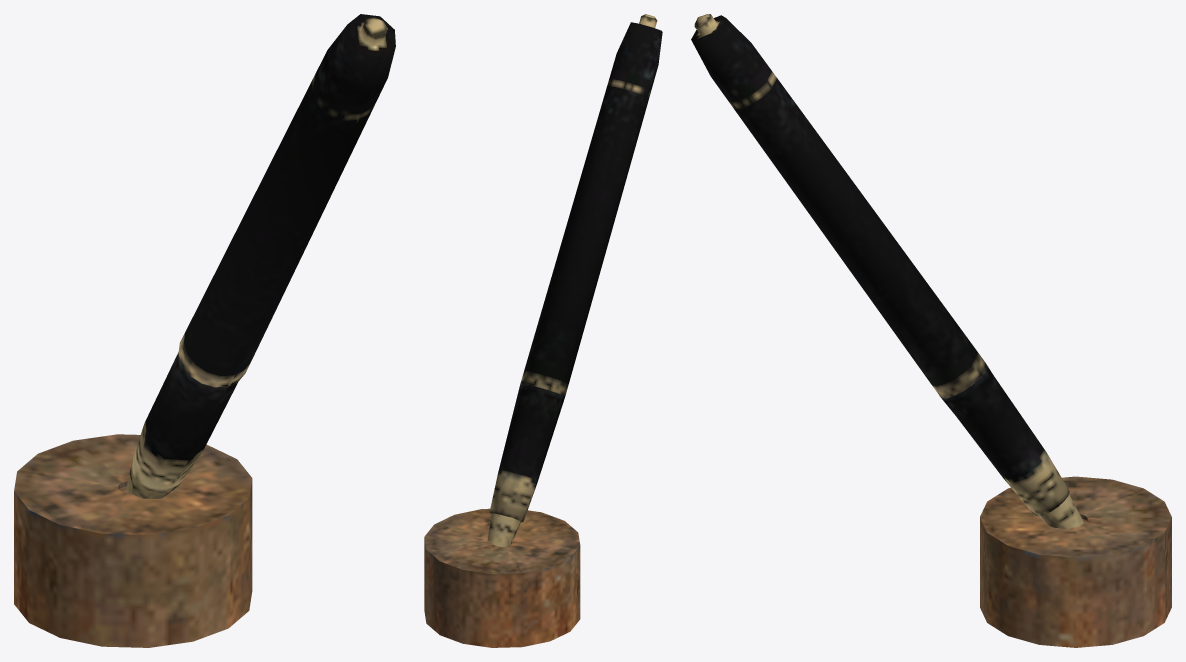
File: sm39_051_deskpenset01a.fbx
3 views of the same model, side by side, from view 1: azimuth 30°, elevation 25°; view 2: azimuth 150°, elevation 25°; view 3: azimuth 270°, elevation 25° (orthographic). The views are drawn at different scales.
Parts seen in each view (by area): view 1: LOD_1_Group_0_Sub_1__sm36_031_Penholder01A_E_Mat, LOD_1_Group_4_Sub_1__sm36_020_CapPen01A_A_Mat; view 2: LOD_1_Group_4_Sub_1__sm36_020_CapPen01A_A_Mat, LOD_1_Group_0_Sub_1__sm36_031_Penholder01A_E_Mat; view 3: LOD_1_Group_4_Sub_1__sm36_020_CapPen01A_A_Mat, LOD_1_Group_0_Sub_1__sm36_031_Penholder01A_E_Mat.
Boxes of the visible parts, left/top/right/bottom form: LOD_1_Group_0_Sub_1__sm36_031_Penholder01A_E_Mat: left=14, top=434, right=252, bottom=647; LOD_1_Group_4_Sub_1__sm36_020_CapPen01A_A_Mat: left=126, top=14, right=395, bottom=498; LOD_1_Group_4_Sub_1__sm36_020_CapPen01A_A_Mat: left=487, top=14, right=662, bottom=546; LOD_1_Group_0_Sub_1__sm36_031_Penholder01A_E_Mat: left=424, top=508, right=580, bottom=647; LOD_1_Group_4_Sub_1__sm36_020_CapPen01A_A_Mat: left=691, top=14, right=1083, bottom=528; LOD_1_Group_0_Sub_1__sm36_031_Penholder01A_E_Mat: left=980, top=476, right=1171, bottom=647.
Size of what is drawn, in the model's own units: 0.0323 by 0.1103 by 0.0808.
